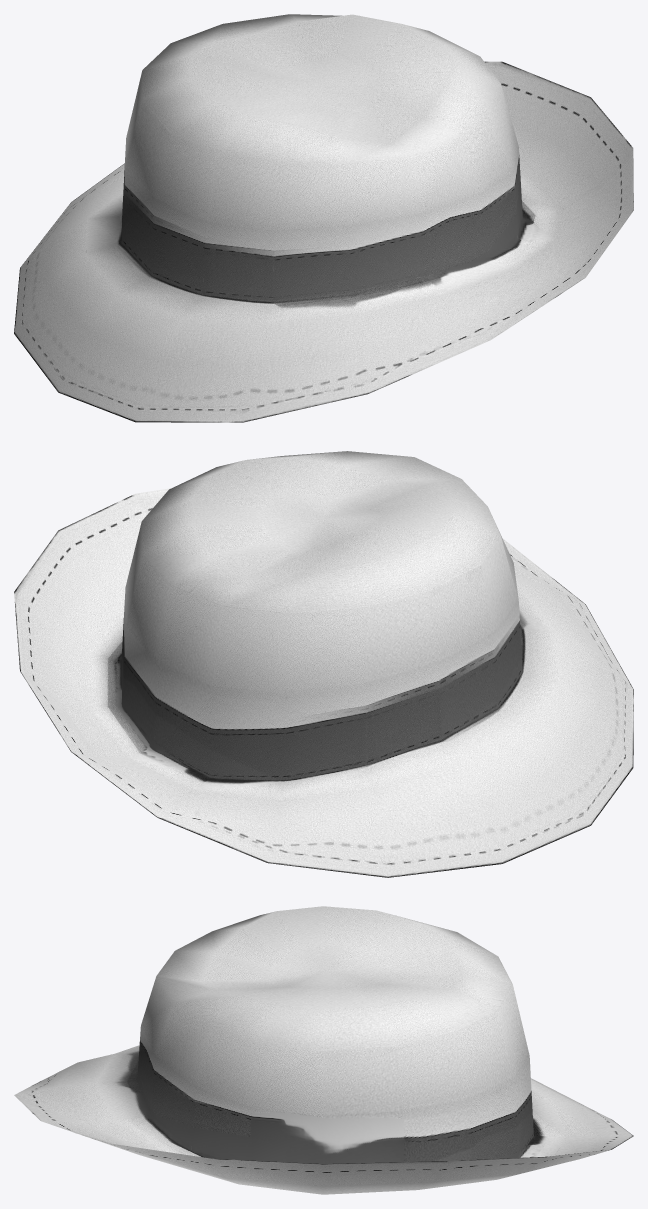
The model's file is hatLadies.glb.
The picture shows the model from 3 angles, top to bottom: view 1: azimuth 30°, elevation 25°; view 2: azimuth 150°, elevation 25°; view 3: azimuth 270°, elevation 25°; orthographic projection. The views are drawn at different scales.
Visible parts, largest first — view 1: HatLadies; view 2: HatLadies; view 3: HatLadies.
Part boxes in pixels (x1,y1,x2,y2): HatLadies: [14, 14, 633, 422]; HatLadies: [14, 451, 633, 877]; HatLadies: [14, 906, 633, 1194].
Bounding box in the file's own units: 13.76 × 6.35 × 14.94.
Materials: 1 (1 with a texture image).
